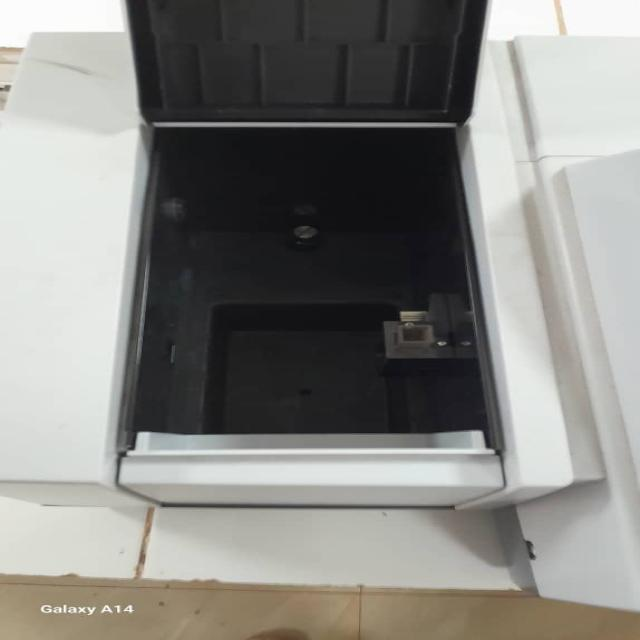Spectrophotometer: (119, 100, 622, 500)
